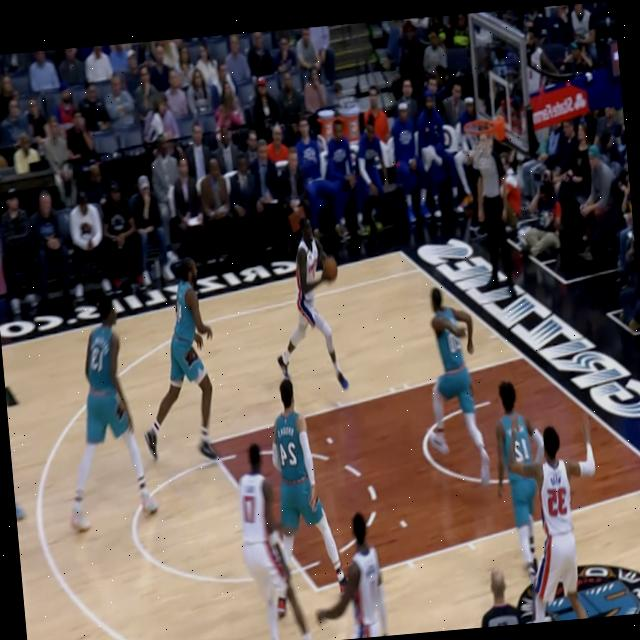no foul: (221, 364, 346, 640), (492, 376, 615, 624), (307, 500, 397, 640)
